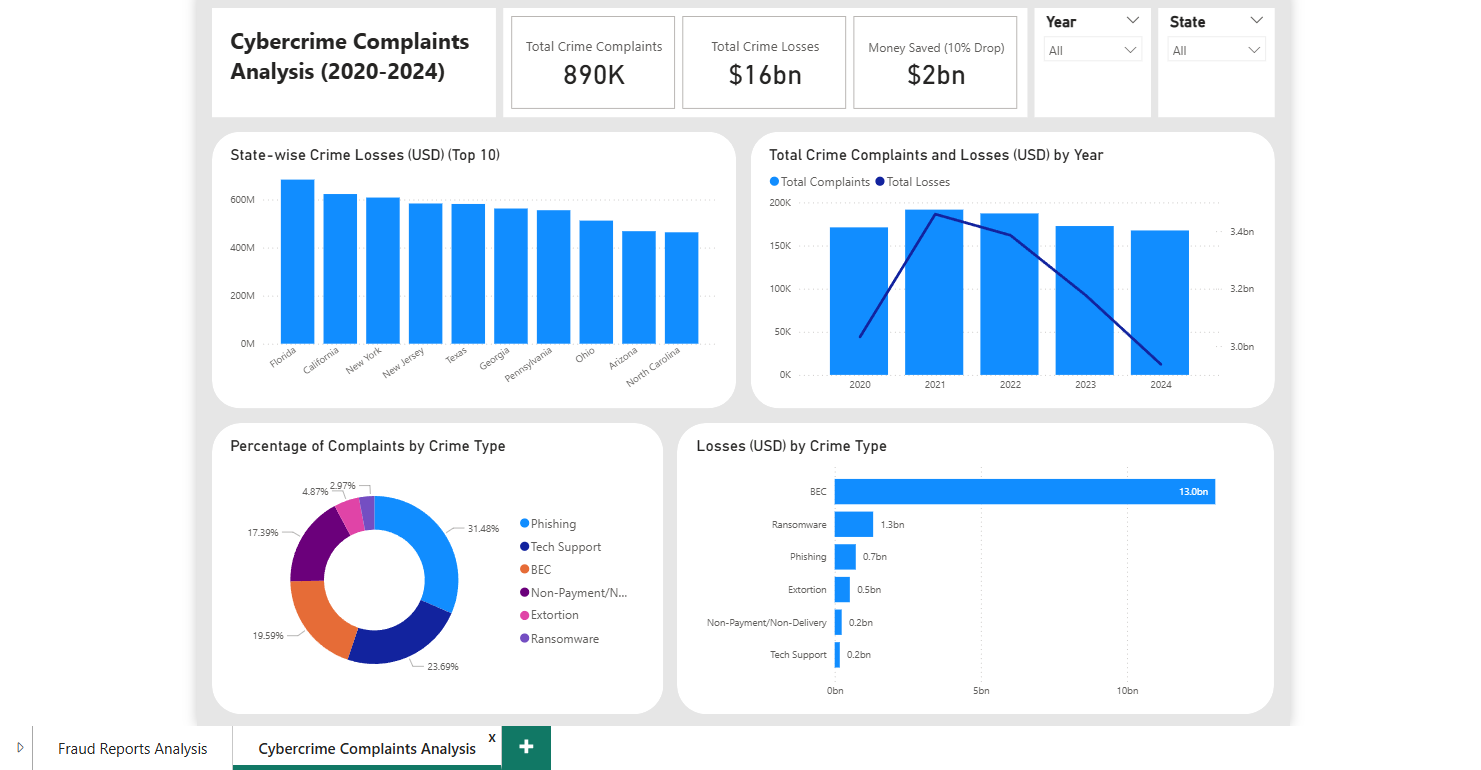

This screenshot's page, from the dashboard's own definition file:
{"tool":"powerbi","page":{"name":"Cybercrime Complaints Analysis","canvas":[1200,806],"ordinal":1},"visuals":[{"type":"shape","box":[528,472,656,320],"z":0},{"type":"shape","box":[608,152,576,304],"z":1000},{"type":"shape","box":[16,152,576,304],"z":2000},{"type":"lineStackedColumnComboChart","title":"Total Crime Complaints and Losses (USD) by Year","fields":{"Category":["(2020-2024) ic3_simulated_all50states.Year"],"Y":["Sum((2020-2024) ic3_simulated_all50states.# of Complaints)"],"Y2":["Sum((2020-2024) ic3_simulated_all50states.Losses (USD))"]},"box":[624,168,544,280],"z":3000},{"type":"cardVisual","fields":{"Data":["_measures.Total Crime Complaints","_measures.Total Crime Losses","_measures.Money Saved (10% Drop)"]},"box":[336,16,576,120],"z":4000},{"type":"columnChart","title":"State-wise Crime Losses (USD) (Top 10)","fields":{"Category":["(2020-2024) ic3_simulated_all50states.State"],"Y":["Sum((2020-2024) ic3_simulated_all50states.Losses (USD))"]},"box":[32,168,544,280],"z":5000},{"type":"shape","box":[16,16,312,120],"z":6000},{"type":"textbox","box":[32,32,280,80],"z":7000},{"type":"slicer","fields":{"Values":["(2020-2024) ic3_simulated_all50states.Year"]},"box":[920,16,128,120],"z":8000},{"type":"barChart","title":"Losses (USD) by Crime Type","fields":{"Category":["(2020-2024) ic3_simulated_all50states.Crime Type"],"Y":["Sum((2020-2024) ic3_simulated_all50states.Losses (USD))"]},"box":[544,488,624,296],"z":9000},{"type":"shape","box":[16,472,496,320],"z":9001},{"type":"donutChart","title":"Percentage of Complaints by Crime Type","fields":{"Category":["(2020-2024) ic3_simulated_all50states.Crime Type"],"Y":["Sum((2020-2024) ic3_simulated_all50states.# of Complaints)"]},"box":[32,488,464,296],"z":9002},{"type":"slicer","fields":{"Values":["(2020-2024) ic3_simulated_all50states.State"]},"box":[1056,16,128,120],"z":9003}]}

Visuals, with their boxes on the page's 1200x806 design canvas (x1, y1, x2, y2). These are canvas units, not pixel positions in the 1481x770 screenshot, which may show the page scaled, cropped or inside an application window:
shape: (x1=528, y1=472, x2=1184, y2=792)
shape: (x1=608, y1=152, x2=1184, y2=456)
shape: (x1=16, y1=152, x2=592, y2=456)
"Total Crime Complaints and Losses (USD) by Year" lineStackedColumnComboChart: (x1=624, y1=168, x2=1168, y2=448)
cardVisual - _measures.Total Crime Complaints x _measures.Total Crime Losses: (x1=336, y1=16, x2=912, y2=136)
"State-wise Crime Losses (USD) (Top 10)" columnChart: (x1=32, y1=168, x2=576, y2=448)
shape: (x1=16, y1=16, x2=328, y2=136)
textbox: (x1=32, y1=32, x2=312, y2=112)
slicer - (2020-2024) ic3_simulated_all50states.Year: (x1=920, y1=16, x2=1048, y2=136)
"Losses (USD) by Crime Type" barChart: (x1=544, y1=488, x2=1168, y2=784)
shape: (x1=16, y1=472, x2=512, y2=792)
"Percentage of Complaints by Crime Type" donutChart: (x1=32, y1=488, x2=496, y2=784)
slicer - (2020-2024) ic3_simulated_all50states.State: (x1=1056, y1=16, x2=1184, y2=136)
